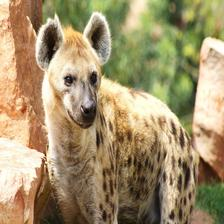hyena: (33, 13, 204, 224)
